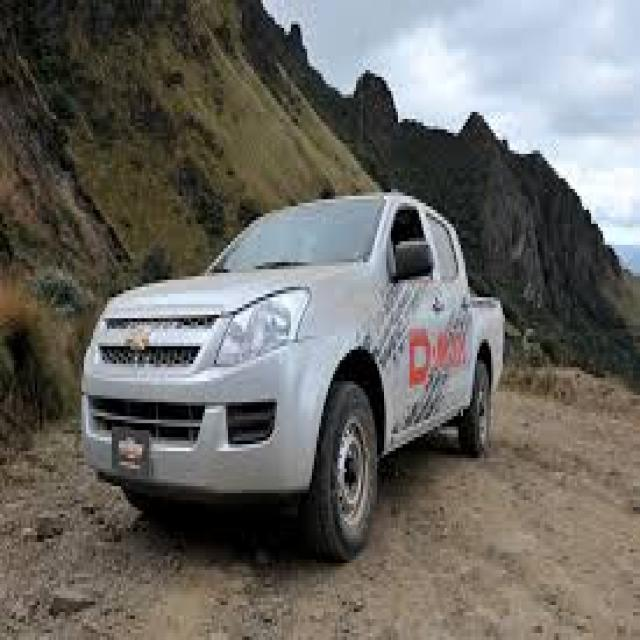CMT: (91, 194, 504, 509)
